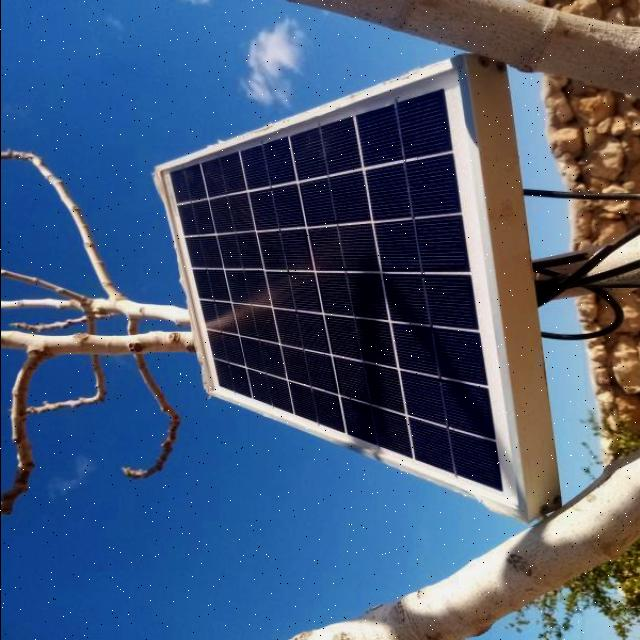Normal Solar Panel: (153, 58, 529, 520)
